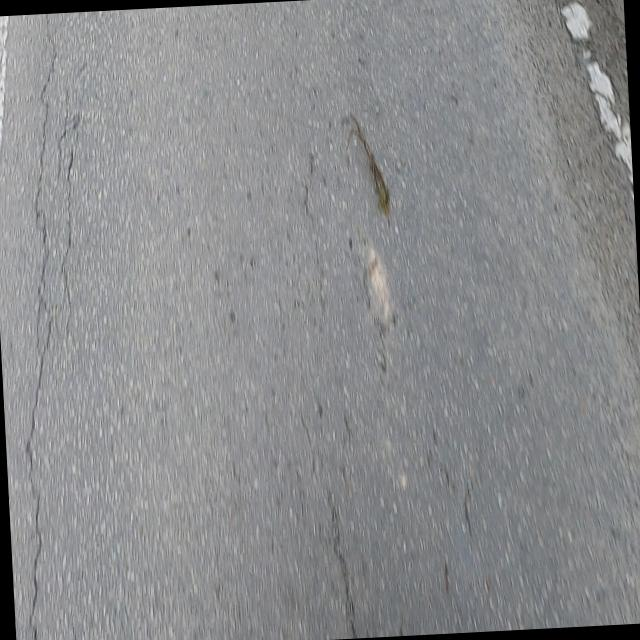Retak-Memanjang: (23, 37, 58, 640), (61, 146, 78, 333)
